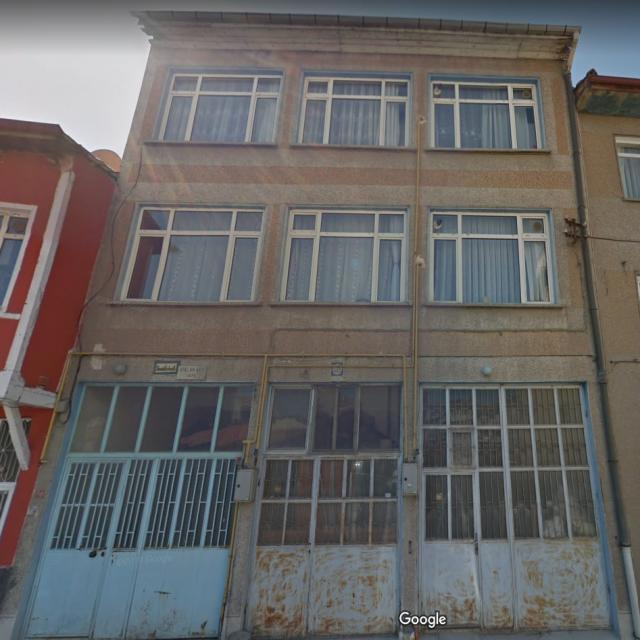Building: (0, 10, 620, 637)
